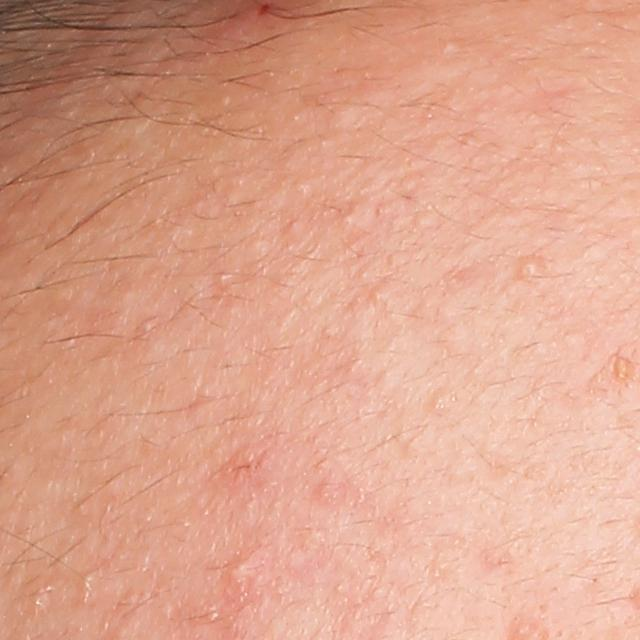comedo: (226, 560, 255, 586), (365, 281, 389, 309), (431, 389, 454, 415), (612, 353, 631, 383), (412, 210, 435, 231), (339, 211, 360, 232), (516, 259, 538, 277), (82, 572, 98, 595), (215, 268, 232, 286), (441, 41, 458, 56)
